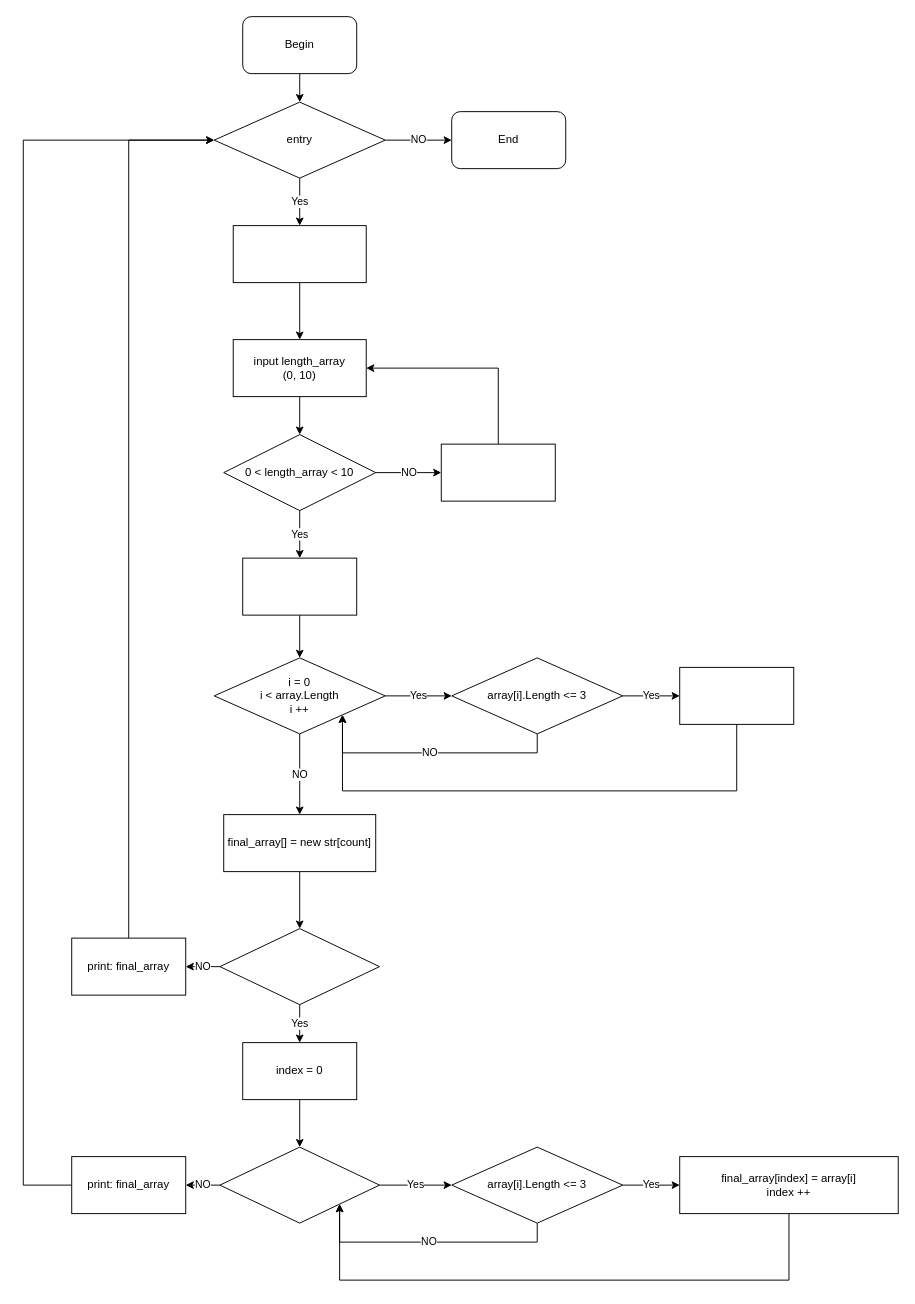
This 915x1304 diagram has some shape labels left out. The shapes that lost their labels are listed below. From the top down, each one's box as (x1, y1, x2, y2) in pixels, then its label:
(232, 225, 366, 283): мах_length_elem = 3 count = 0
(440, 443, 555, 501): print: input error
(242, 557, 357, 615): input values of array
(679, 666, 794, 724): count ++
(219, 928, 380, 1005): count != 0
(219, 1146, 380, 1223): i = 0 i < final_array.Length i ++
